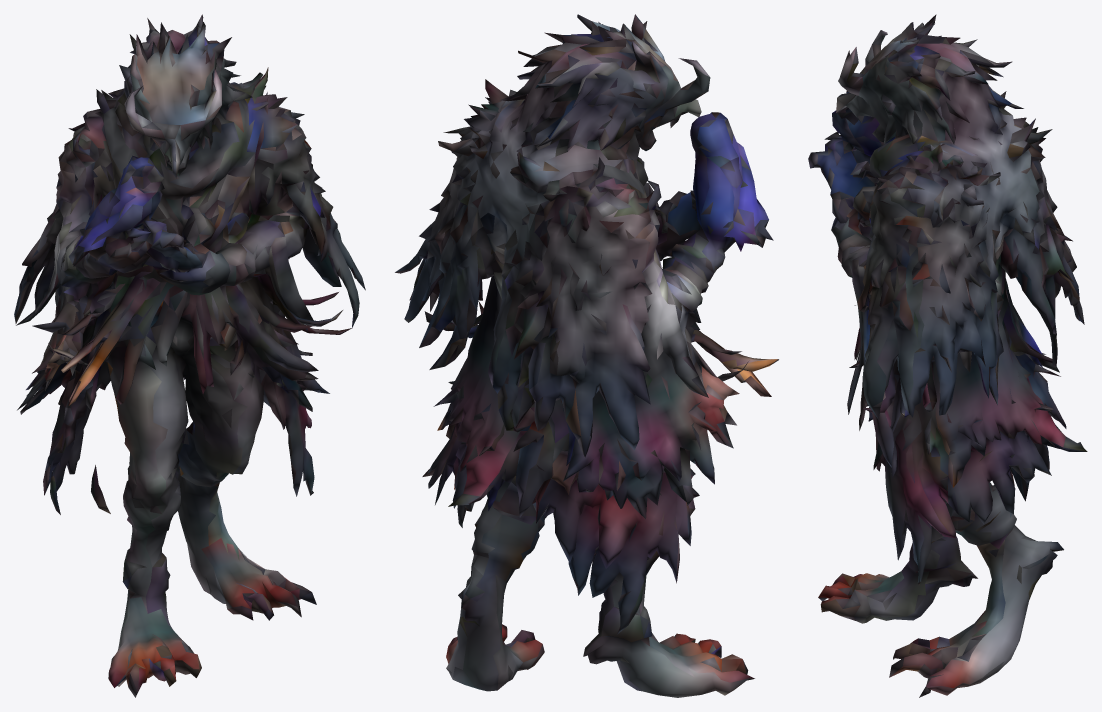
The model's file is Shrike (2)_final.glb.
3 renders of one model, left to right at view 1: azimuth 30°, elevation 25°; view 2: azimuth 150°, elevation 25°; view 3: azimuth 270°, elevation 25°, orthographic. The views are drawn at different scales.
Visible parts, largest first — view 1: Mesh_0; view 2: Mesh_0; view 3: Mesh_0.
Part boxes in pixels (x1,y1,x2,y2): Mesh_0: (14,14,365,697); Mesh_0: (395,14,778,697); Mesh_0: (808,14,1087,697).
Size of the model in its own units: 1.09 by 2 by 0.8253.
1 material, 1 textured.
